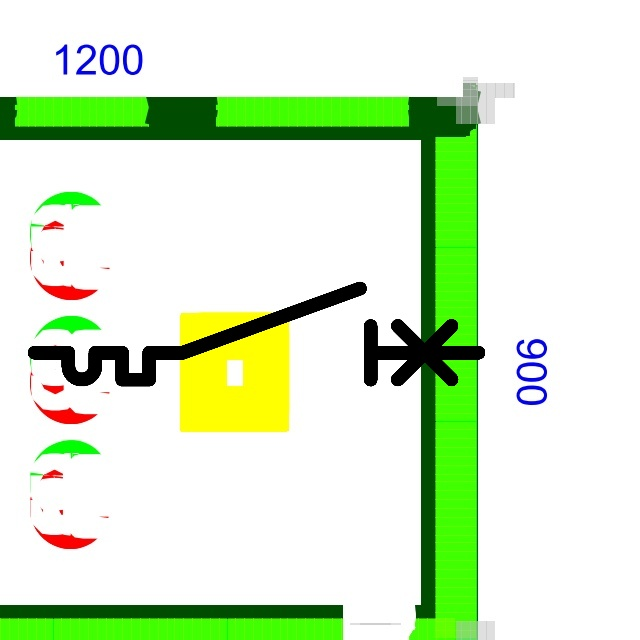interruptor_termomagnetico: (23, 277, 490, 391)
